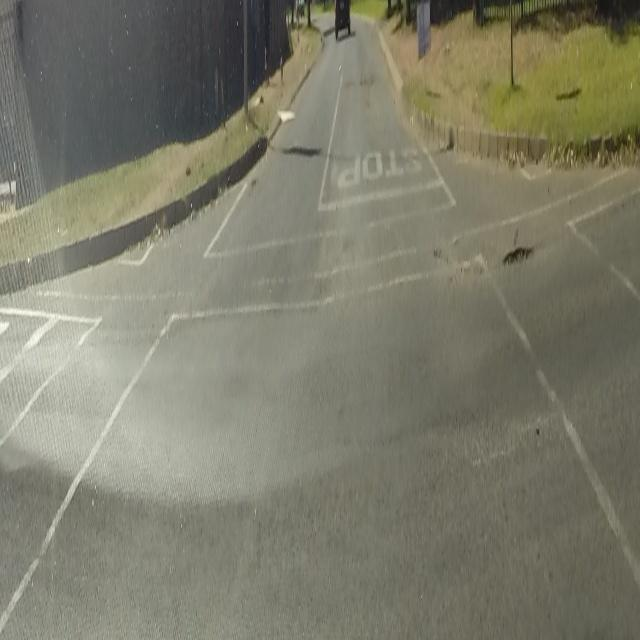pothole: (500, 239, 538, 271)
